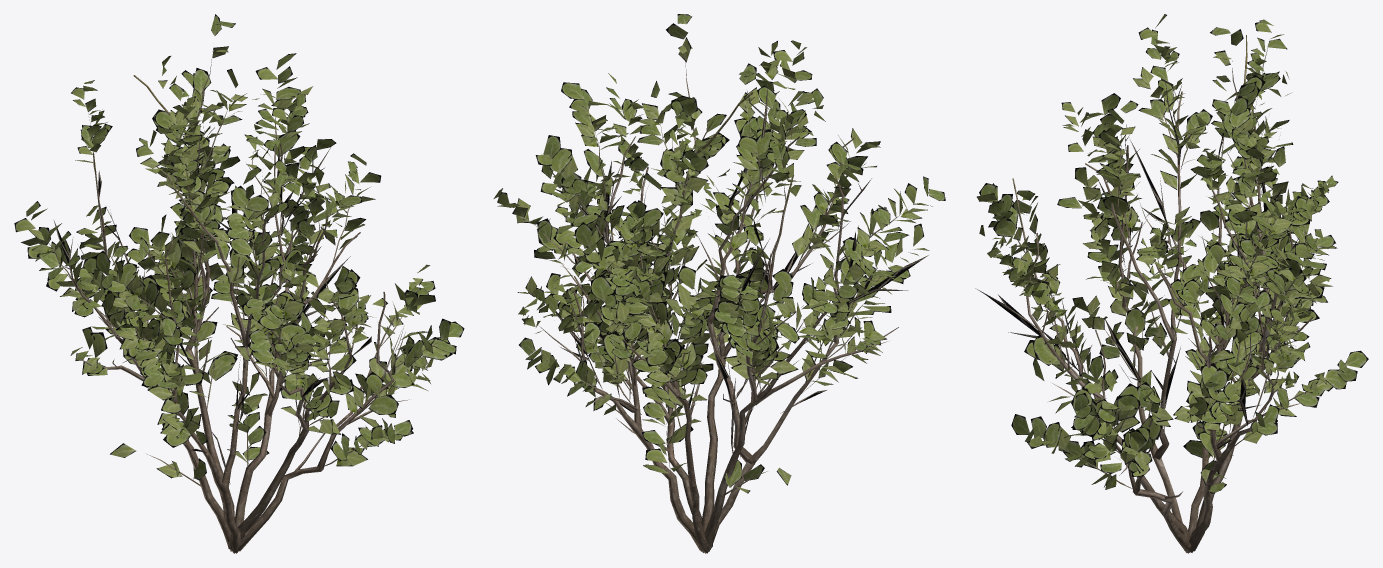
File: searsia.glb
3 renders of one model, left to right at view 1: azimuth 30°, elevation 25°; view 2: azimuth 150°, elevation 25°; view 3: azimuth 270°, elevation 25°, orthographic. The views are drawn at different scales.
Visible parts, largest first — view 1: searsia_lucida_d_LOD0; view 2: searsia_lucida_d_LOD0; view 3: searsia_lucida_d_LOD0.
Part boxes in pixels (x1,y1,x2,y2): searsia_lucida_d_LOD0: [14, 14, 464, 553]; searsia_lucida_d_LOD0: [493, 14, 945, 553]; searsia_lucida_d_LOD0: [975, 14, 1368, 553].
Size of the model in its own units: 1.06 by 1.4 by 0.9495.
Materials: 2 (2 with a texture image).
